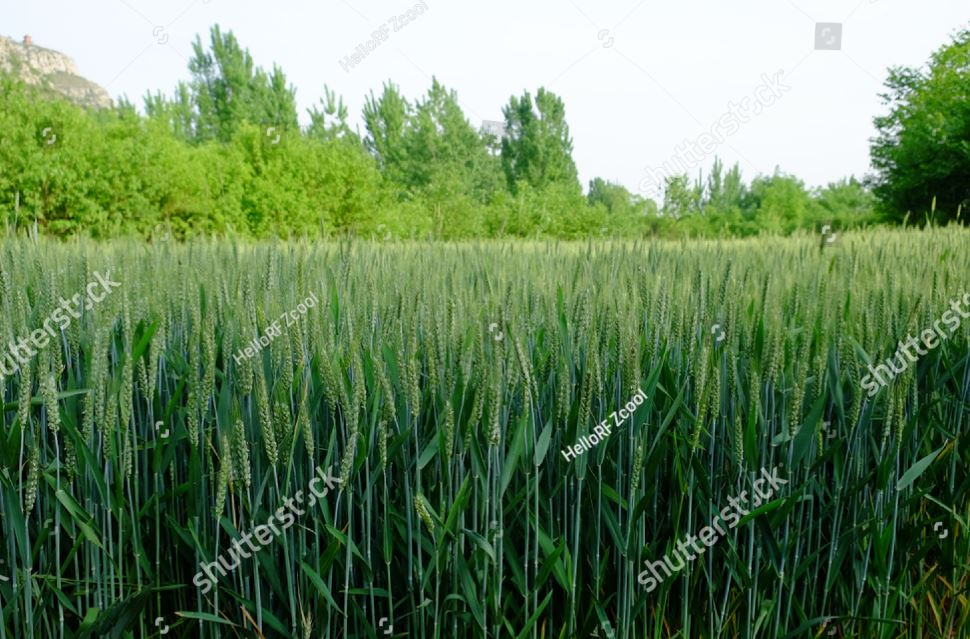Wheat: (229, 248, 782, 616)
